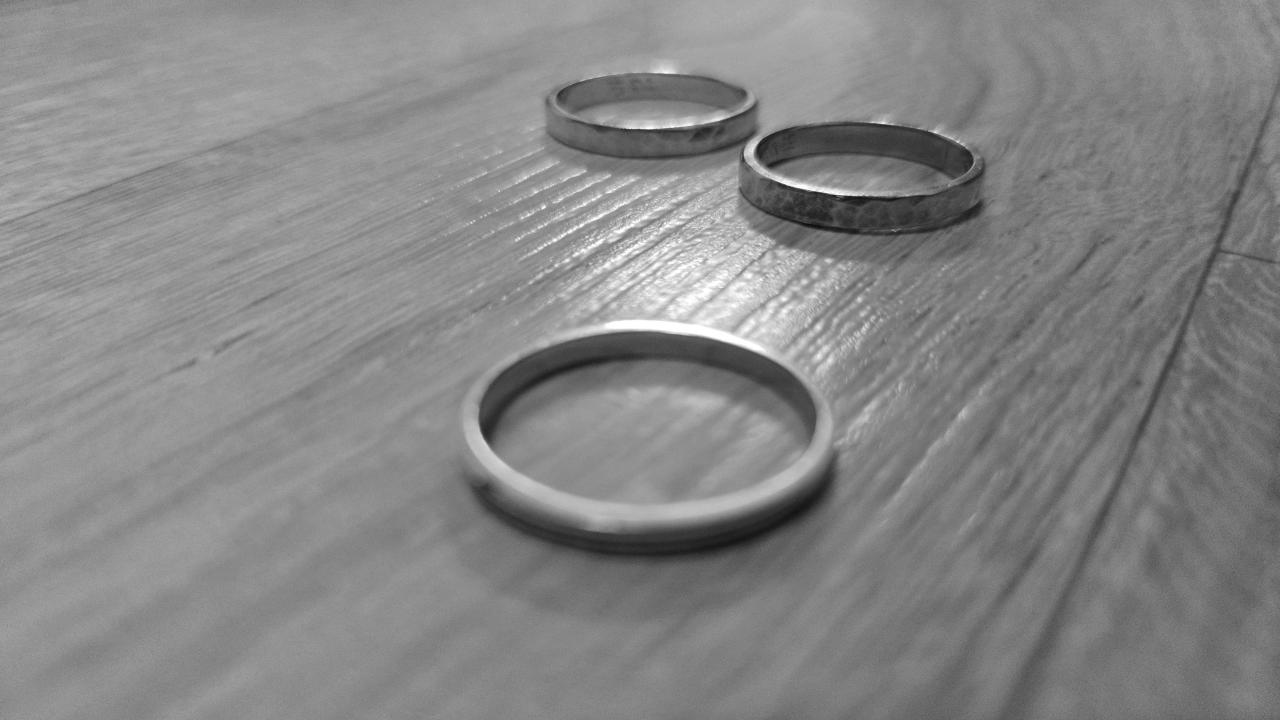ring: (451, 319, 838, 550), (739, 120, 987, 233), (542, 70, 764, 159)
